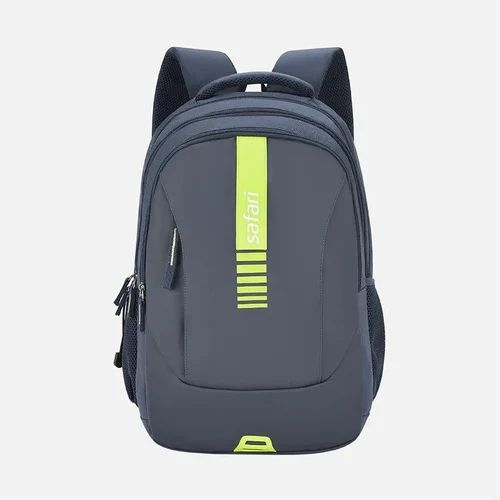backpack: (113, 45, 386, 455)
